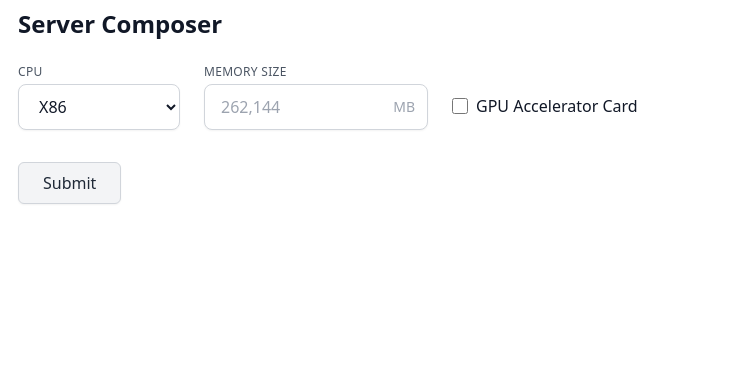
Test case: ServerComposer › shows Tower Server or 4U Rack Server for X86 + 524,288 (Example 3)
Step 1. Select "X86" in the dropdown labelled "CPU" → (99, 107), box 18,84 -> 180,130
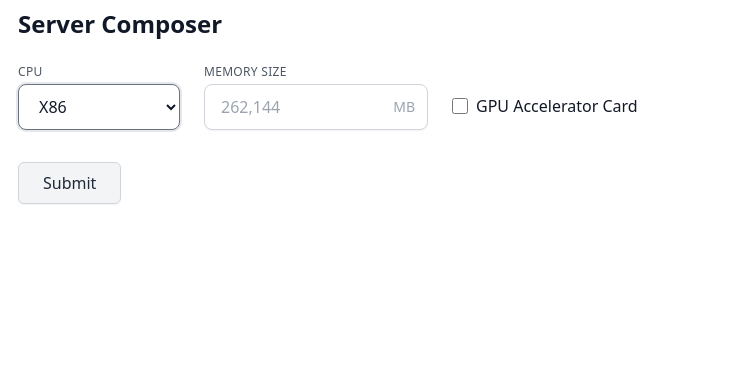
Step 2. Type "524,288" into the field labelled "Memory Size" → (293, 107), box 205,85 -> 381,129
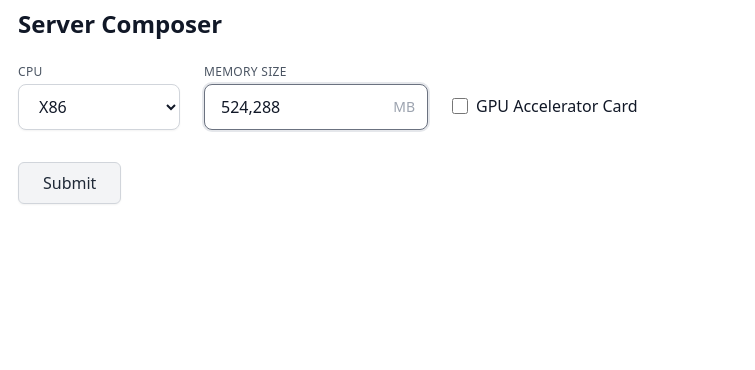
Step 3. Click the button "Submit" → (70, 183), box 18,162 -> 121,204
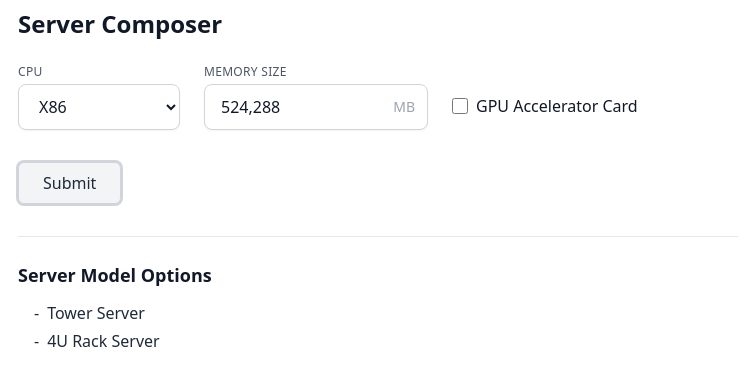
Now the text "Tower Server" is shown, box 47,301 -> 145,325
Now the text "4U Rack Server" is shown, box 47,329 -> 160,353
